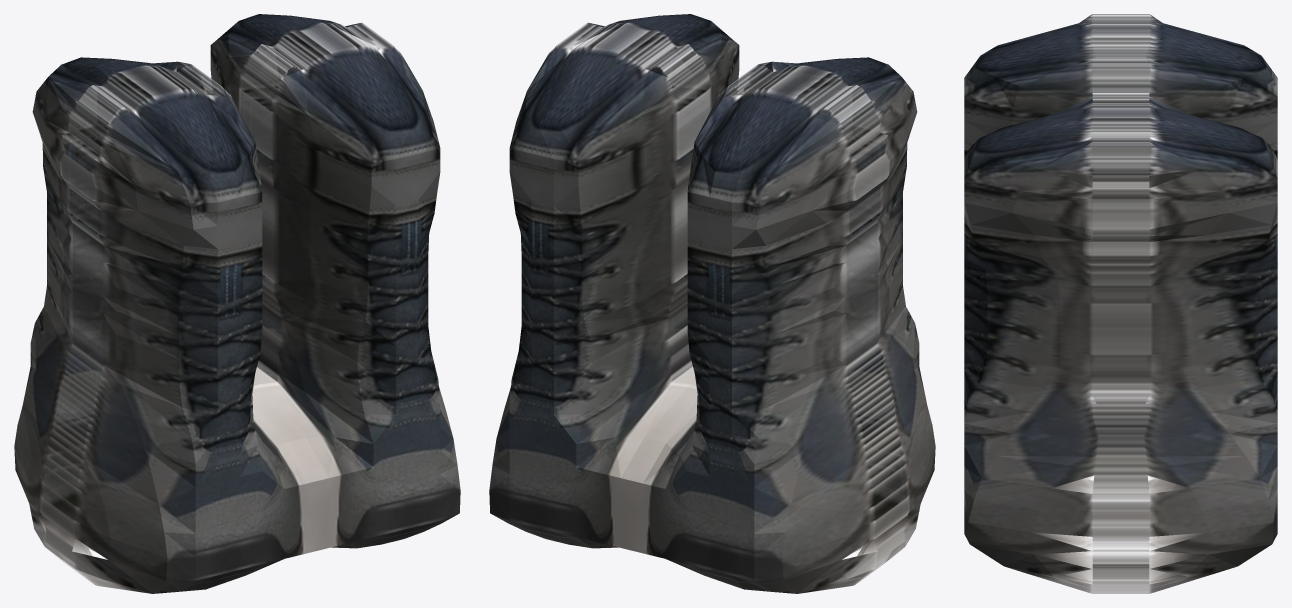
Rendered from tcx-nomad-touring-boot-123.glb.
3 views of the same model, side by side, from view 1: azimuth 30°, elevation 25°; view 2: azimuth 150°, elevation 25°; view 3: azimuth 270°, elevation 25° (orthographic). The views are drawn at different scales.
Parts seen in each view (by area): view 1: world; view 2: world; view 3: world.
Part boxes in pixels (box(x1,y1,x2,y2)): world: box(14, 14, 460, 593); world: box(489, 14, 935, 593); world: box(964, 14, 1277, 593).
Bounding box in the file's own units: 0.7781 × 1 × 0.62.
Materials: 1 (1 with a texture image).
